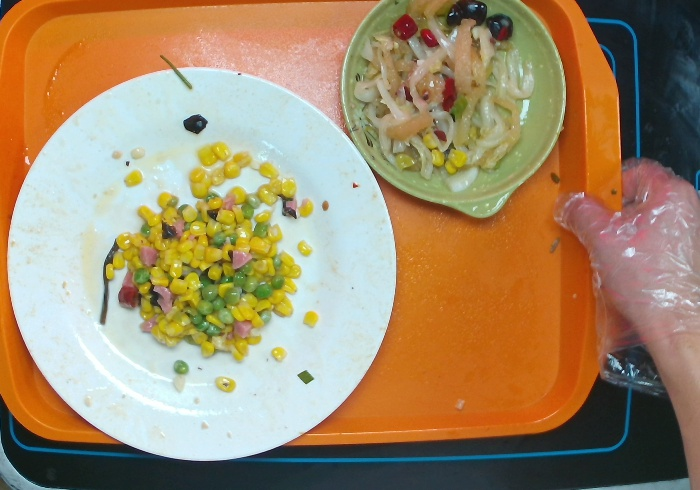NLDX-Da_Yuan_Pan: (6, 63, 399, 469)
NLDX-Lv_Hua_Shuang_Er_Die: (338, 1, 570, 222)
